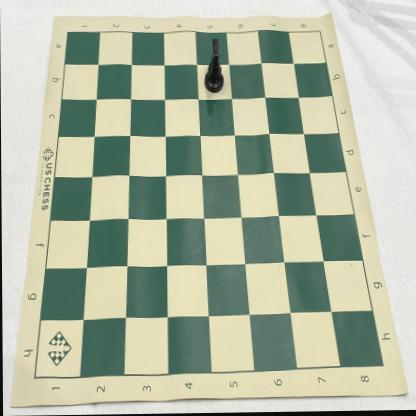black-knight: (203, 38, 225, 94)
